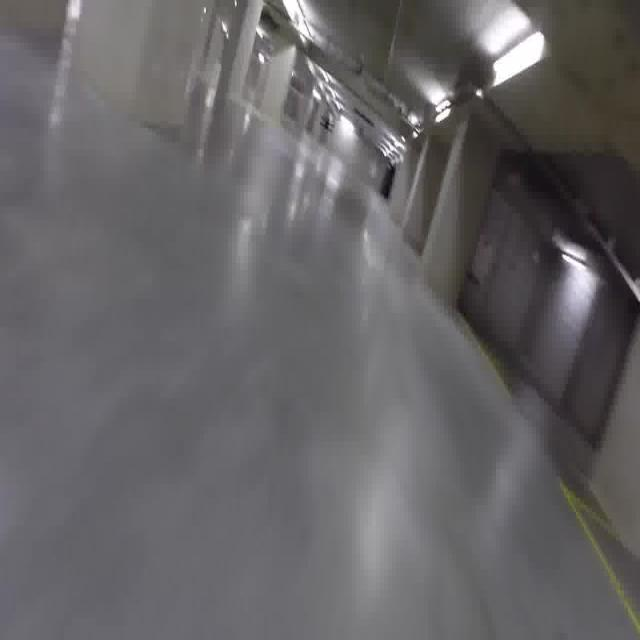drones: (312, 105, 340, 140)
